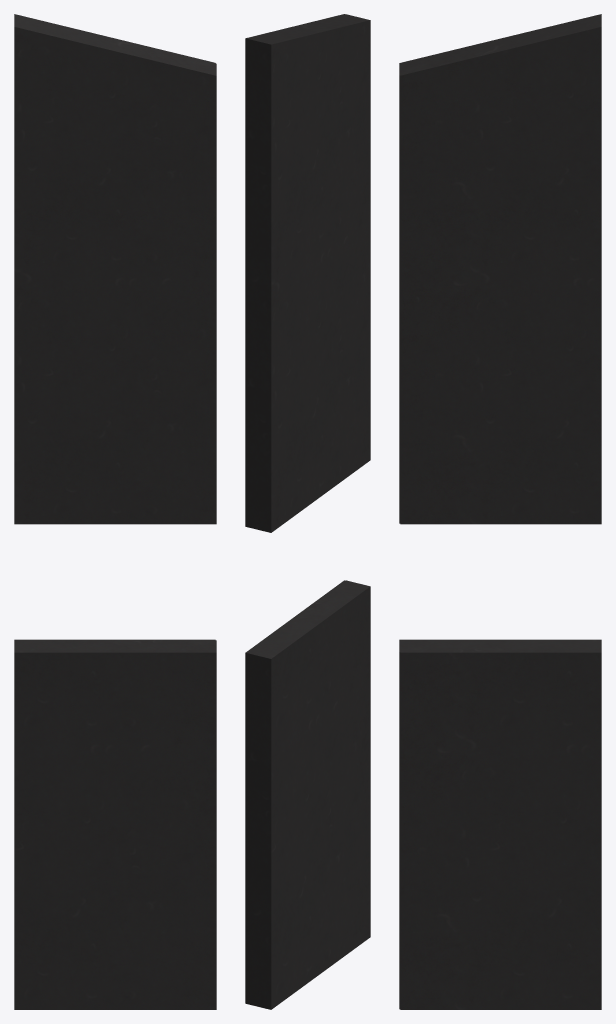
The model's file is A13.1.1 H.WALL. PNL 2714 UP + 1950 DWN E6.fbx.
3 renders of one model, left to right at view 1: azimuth 90°, elevation 25°; view 2: azimuth 150°, elevation 25°; view 3: azimuth 270°, elevation 25°, orthographic.
Parts seen in each view (by area): view 1: Model, Group1; view 2: Model, Group1; view 3: Model, Group1.
Part boxes in pixels (x1,y1,x2,y2): Model: (14, 14, 216, 524); Group1: (14, 639, 216, 1009); Model: (245, 14, 370, 532); Group1: (245, 580, 370, 1009); Model: (399, 14, 601, 524); Group1: (399, 639, 601, 1009).
Size of the model in its own units: 150 by 5364 by 1000.
